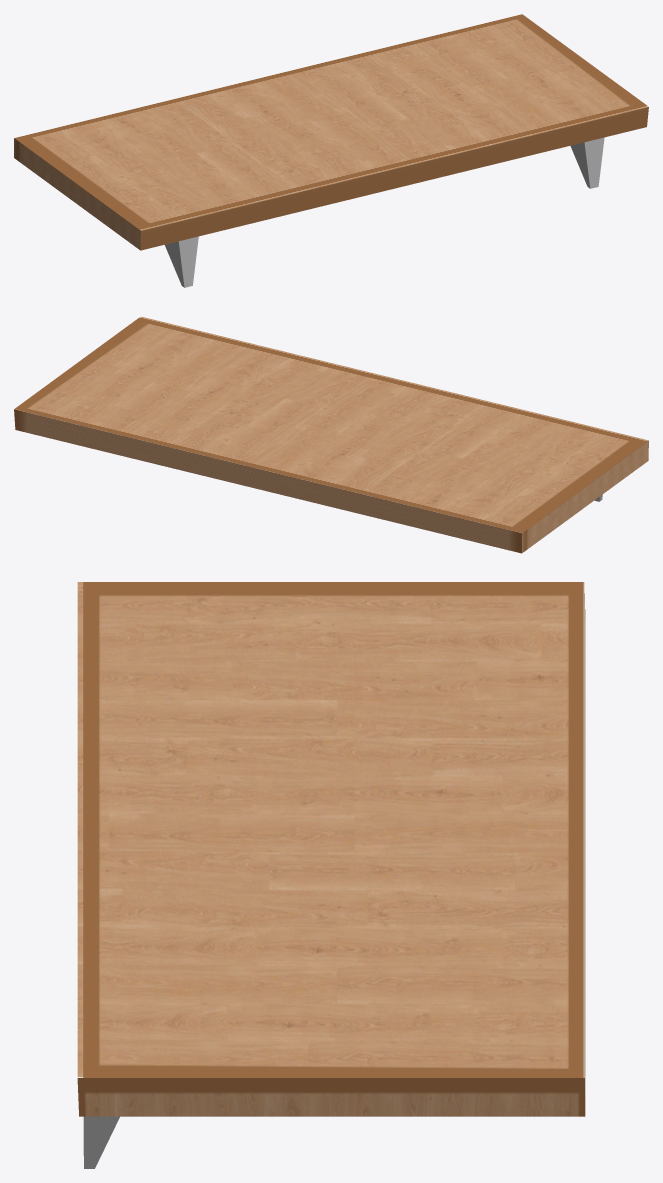
Rendered from Shelf_Ledge.fbx.
3 views of the same model, one above another, from view 1: azimuth 30°, elevation 25°; view 2: azimuth 150°, elevation 25°; view 3: azimuth 270°, elevation 25° (orthographic). The views are drawn at different scales.
Parts seen in each view (by area): view 1: Wall_Shelf; view 2: Wall_Shelf; view 3: Wall_Shelf.
Boxes of the visible parts, bbox=[...] form: Wall_Shelf: bbox=[14, 14, 648, 287]; Wall_Shelf: bbox=[14, 316, 648, 553]; Wall_Shelf: bbox=[77, 582, 585, 1168].
Size of the model in its own units: 161 by 20.92 by 69.47.
